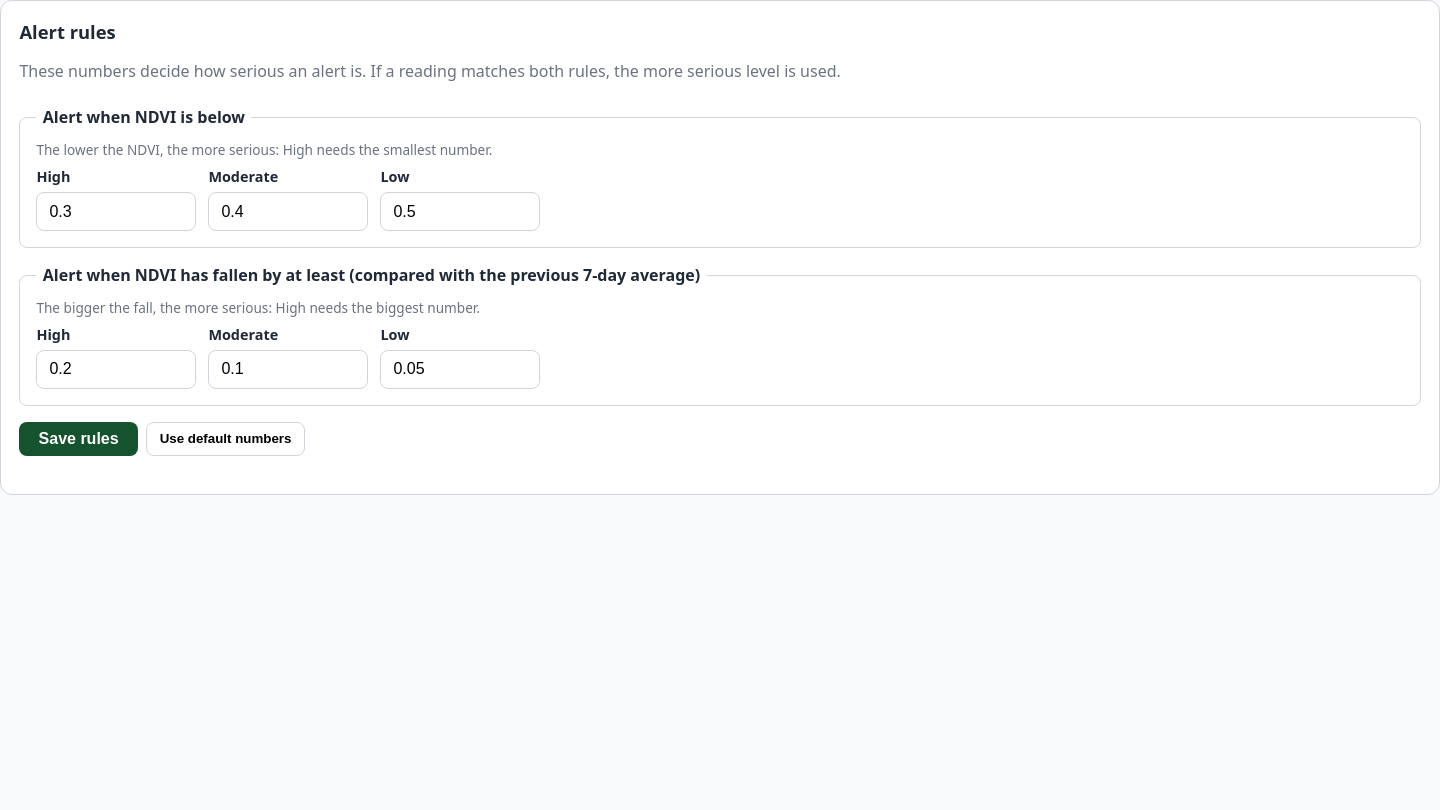
Scenario: AlertRulesPanel Component Tests › should display server error messages and retain the user input on failure
Replace the text in the number field labelled "High" below "Alert when NDVI is below" with "0.9" at (116, 212), box [36, 192, 196, 231]
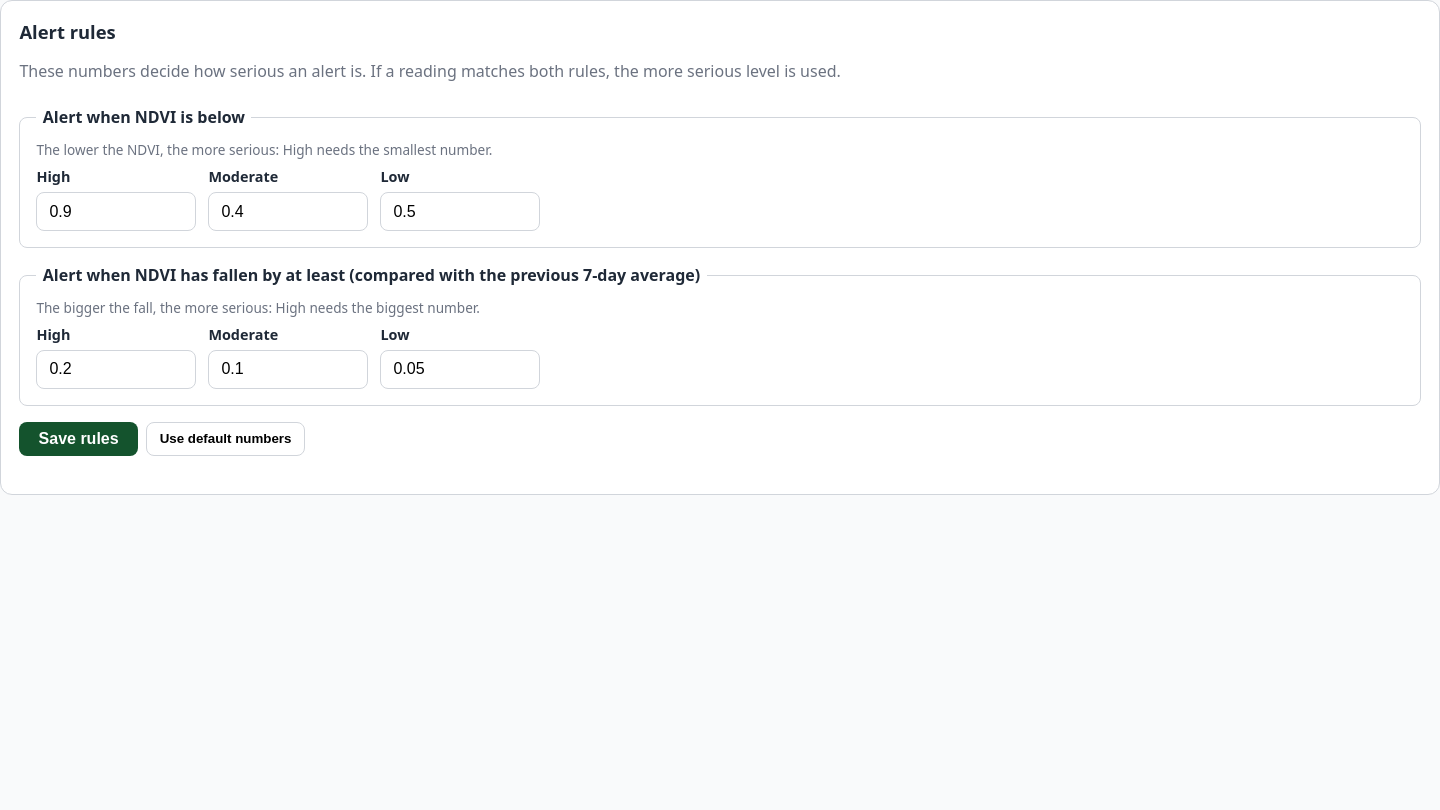
Click the button "Save rules" at (79, 439), box [19, 422, 138, 456]
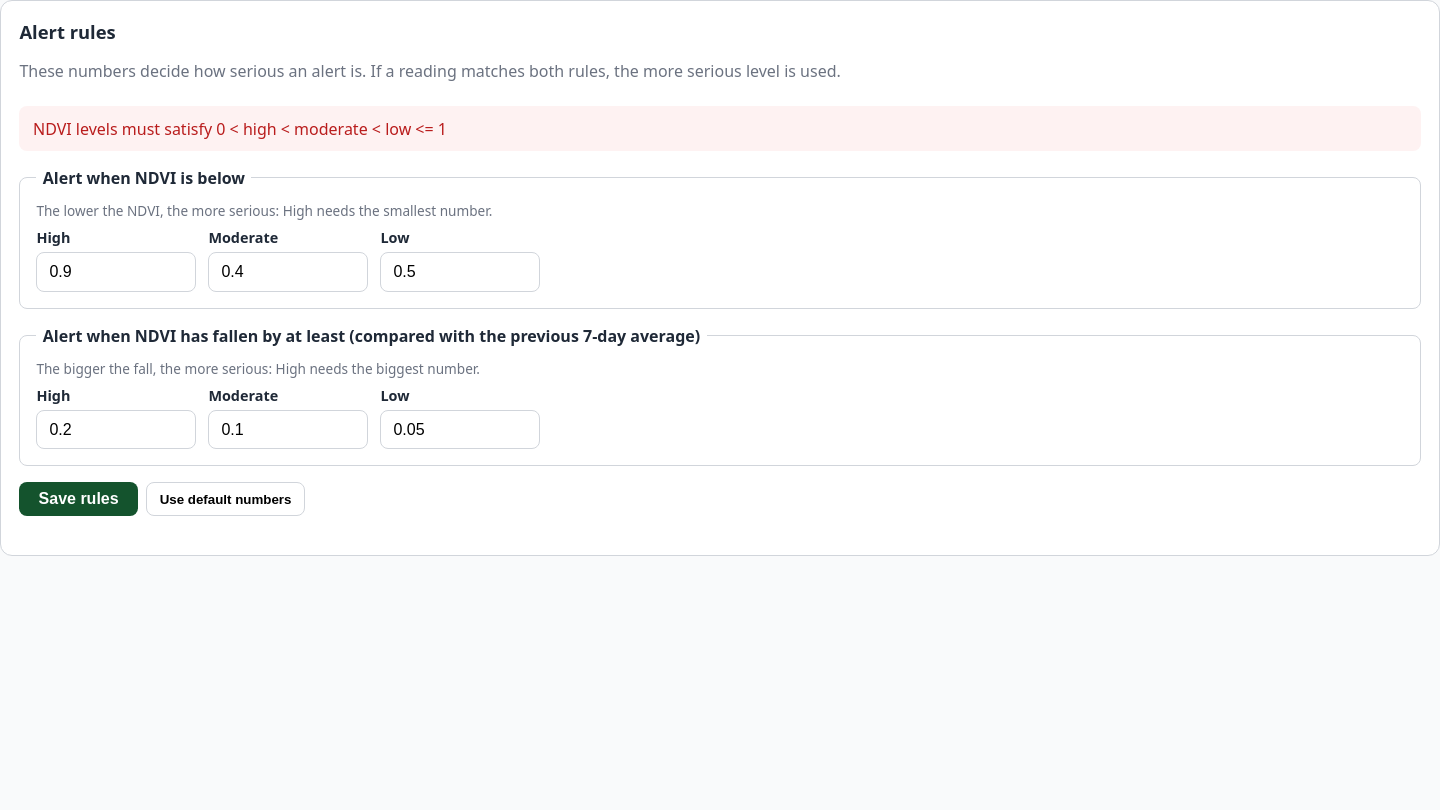
Now the message shows "NDVI levels must satisfy", box [33, 118, 447, 140]
